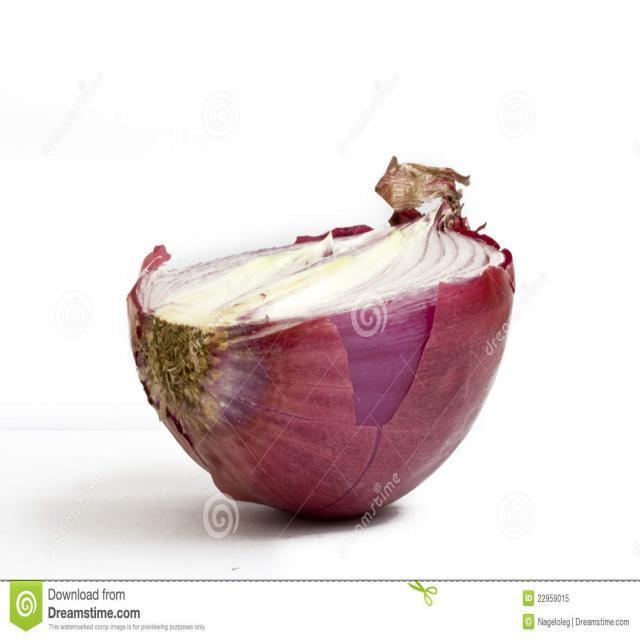onion: (111, 194, 526, 531)
